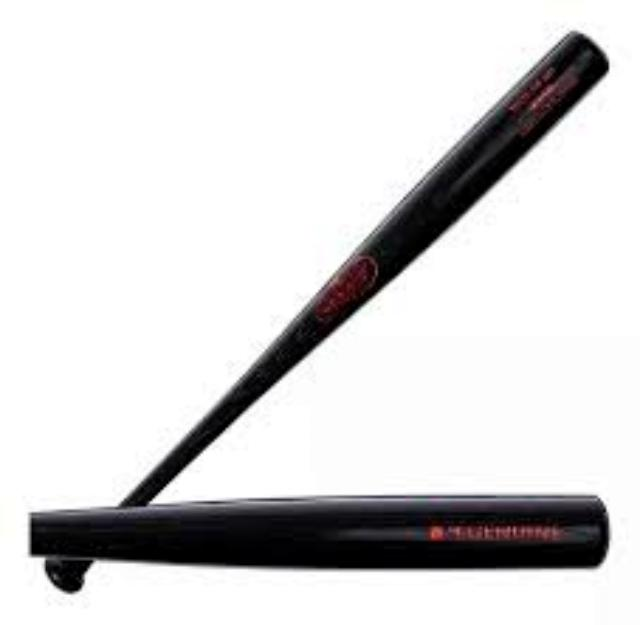baseball bat: (47, 25, 610, 603), (27, 496, 626, 566)
